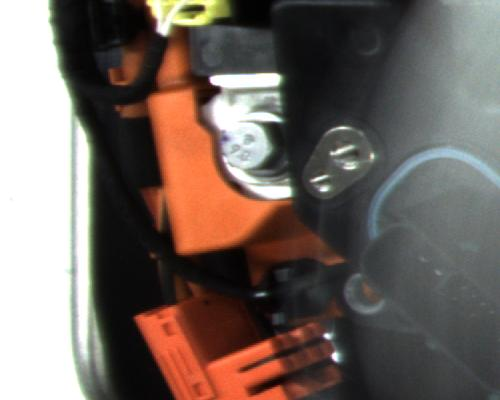nut_b: (213, 109, 282, 184)
